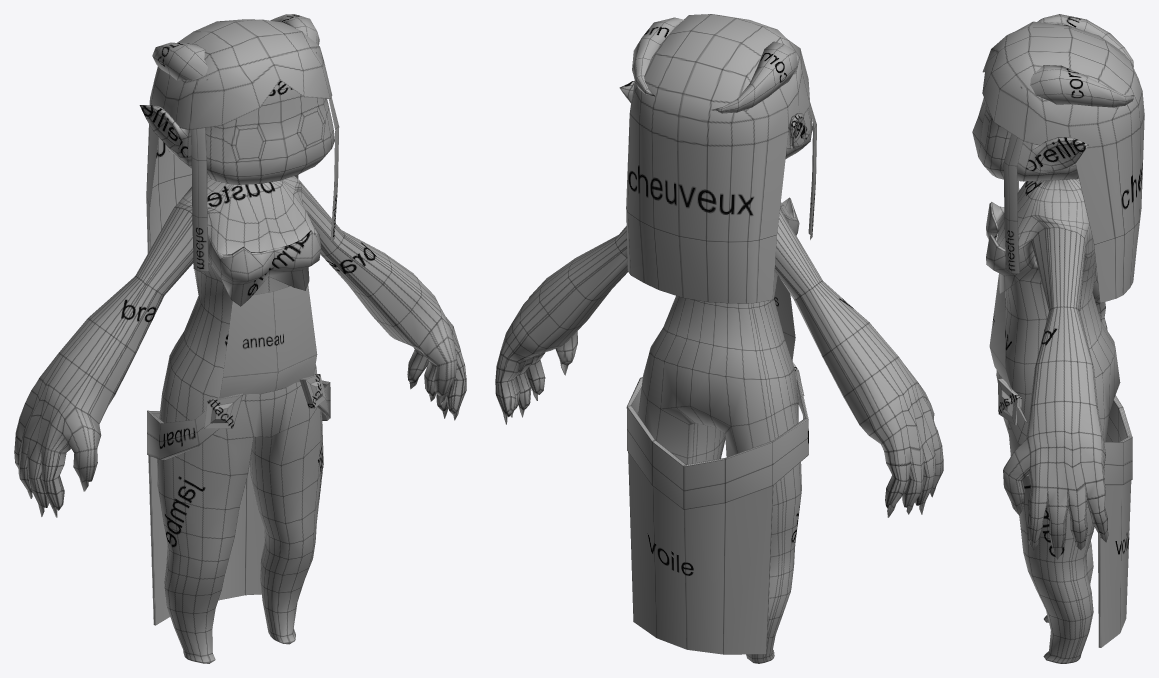
The model's file is Template_Lilith.fbx.
3 renders of one model, left to right at view 1: azimuth 30°, elevation 25°; view 2: azimuth 150°, elevation 25°; view 3: azimuth 270°, elevation 25°, orthographic. The views are drawn at different scales.
Parts seen in each view (by area): view 1: polySurface_corps, polySurface_cheveux, polySurface_anneau, polySurface_voile, polySurface_R_meche, polySurface_L_losange; view 2: polySurface_corps, polySurface_cheveux, polySurface_voile, polySurface_anneau; view 3: polySurface_corps, polySurface_cheveux, polySurface_voile, polySurface_L_meche, polySurface_anneau, polySurface_R_losange.
Boxes of the visible parts, x1,y1,x2,y2 form: polySurface_corps: (14,14,466,663); polySurface_cheveux: (146,19,332,253); polySurface_anneau: (219,284,317,398); polySurface_voile: (147,380,330,625); polySurface_R_meche: (191,128,208,271); polySurface_L_losange: (204,393,243,428); polySurface_corps: (495,17,943,663); polySurface_cheveux: (626,14,810,303); polySurface_voile: (626,377,808,654); polySurface_anneau: (774,275,795,360); polySurface_corps: (972,14,1133,663); polySurface_cheveux: (982,21,1144,302); polySurface_voile: (1008,395,1132,647); polySurface_L_meche: (1003,134,1023,273); polySurface_anneau: (989,273,1011,390); polySurface_R_losange: (998,378,1021,425).
Bounding box in the file's own units: 82.85 × 116 × 29.85.
